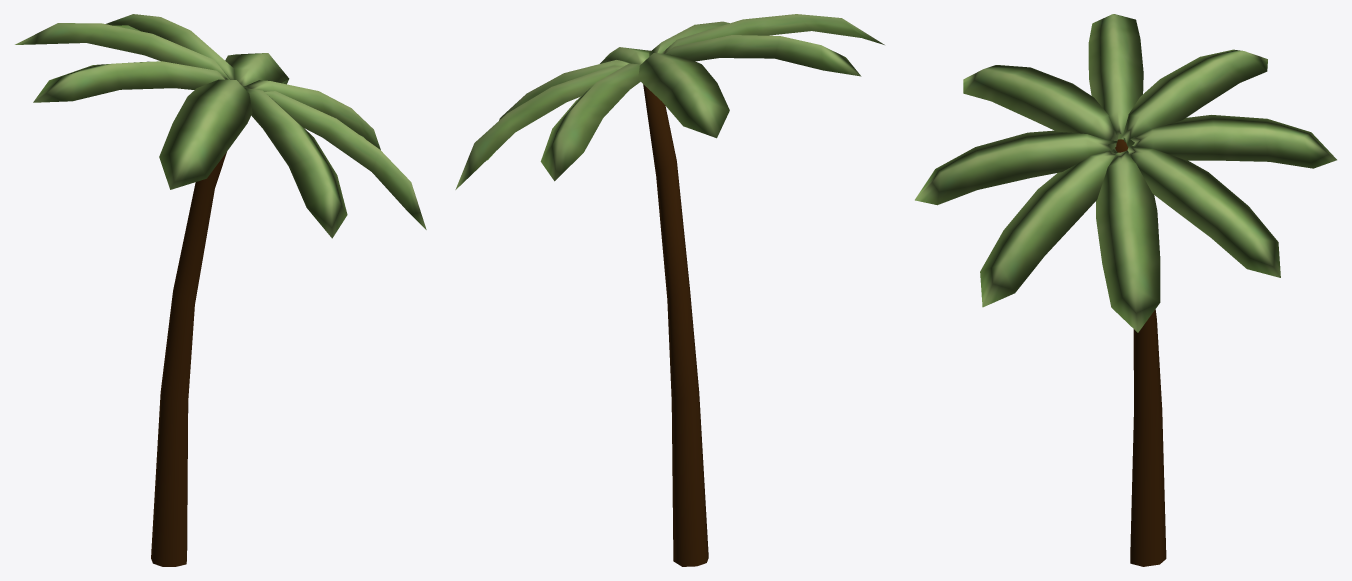
File: Palm_01.fbx
3 renders of one model, left to right at view 1: azimuth 30°, elevation 25°; view 2: azimuth 150°, elevation 25°; view 3: azimuth 270°, elevation 25°, orthographic. The views are drawn at different scales.
Parts seen in each view (by area): view 1: Palm_01; view 2: Palm_01; view 3: Palm_01.
Boxes of the visible parts, x1,y1,x2,y2 form: Palm_01: (15,14,426,566); Palm_01: (455,14,884,566); Palm_01: (915,14,1336,566).
Size of the model in its own units: 393 by 547 by 424.
